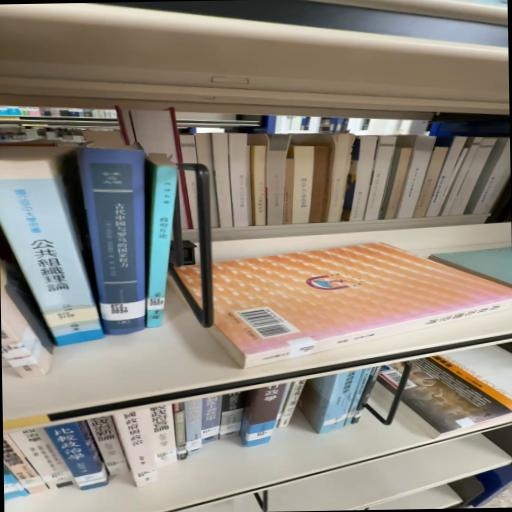flat: (211, 244, 512, 369), (402, 344, 512, 437), (380, 364, 405, 394)
